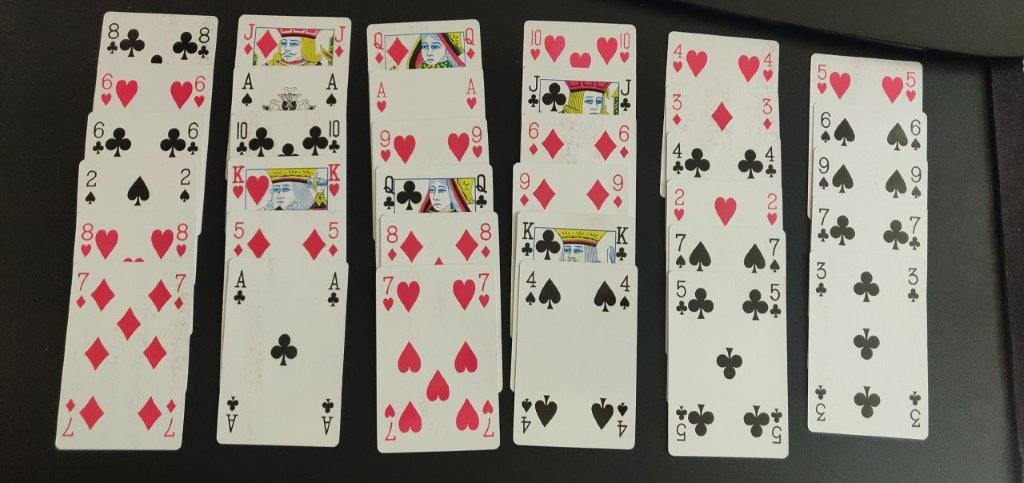10C: (232, 117, 251, 159), (327, 114, 343, 157)
10H: (525, 24, 545, 64), (614, 29, 633, 71)
2H: (669, 183, 688, 226), (763, 191, 780, 228)
2S: (82, 166, 102, 211), (176, 164, 193, 207)
3C: (904, 264, 923, 311), (810, 257, 830, 301)
3D: (757, 93, 775, 139), (669, 90, 685, 130)
4C: (670, 139, 685, 181), (763, 143, 778, 182)
4H: (668, 38, 685, 74), (761, 50, 776, 88)
4S: (522, 268, 540, 309), (618, 272, 633, 315)
5C: (671, 275, 690, 323), (768, 280, 784, 321)
5D: (231, 215, 249, 262), (325, 219, 343, 261)
5H: (904, 69, 920, 108), (814, 60, 829, 99)
6C: (186, 119, 201, 162), (91, 119, 107, 157)
6D: (614, 120, 632, 162), (526, 118, 543, 160)
6H: (98, 69, 116, 111), (191, 72, 209, 111)
6S: (816, 107, 836, 146), (908, 115, 923, 153)
7C: (904, 212, 924, 256), (814, 202, 832, 244)
7D: (73, 270, 92, 313), (171, 272, 190, 313)
7H: (474, 269, 495, 313), (379, 272, 398, 316)
7S: (670, 227, 691, 274), (765, 233, 783, 274)
8C: (104, 17, 122, 60), (195, 23, 212, 62)
8D: (476, 219, 497, 260), (384, 223, 400, 265)
8H: (174, 219, 190, 264), (79, 220, 96, 260)
9D: (609, 168, 626, 209), (516, 170, 533, 209)
9H: (469, 121, 486, 164), (376, 125, 394, 164)
9S: (908, 161, 927, 205), (816, 152, 833, 195)
AC: (231, 266, 250, 309), (324, 269, 343, 310)
AH: (373, 75, 393, 115), (461, 73, 480, 114)
AS: (320, 68, 343, 111), (237, 67, 257, 110)
JC: (526, 73, 543, 110), (618, 76, 633, 117)
JD: (328, 21, 349, 63), (241, 18, 258, 60)
KC: (518, 219, 539, 261), (614, 222, 631, 264)
KH: (226, 162, 248, 204), (325, 158, 343, 202)
QC: (382, 169, 400, 213), (473, 171, 490, 211)
QD: (366, 27, 390, 69), (459, 22, 480, 62)
